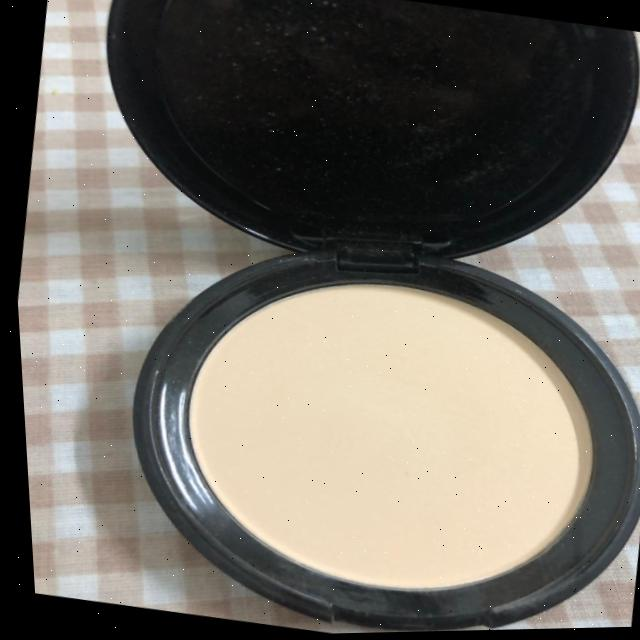powder: (125, 242, 640, 638)
